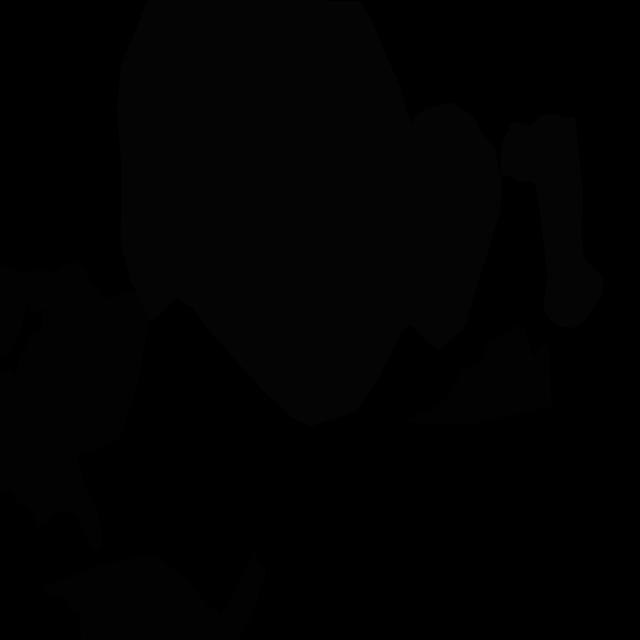cardboard: (0, 261, 151, 553), (44, 550, 267, 640), (403, 324, 552, 425)
soft_plastic: (116, 0, 502, 426), (500, 114, 604, 328)
